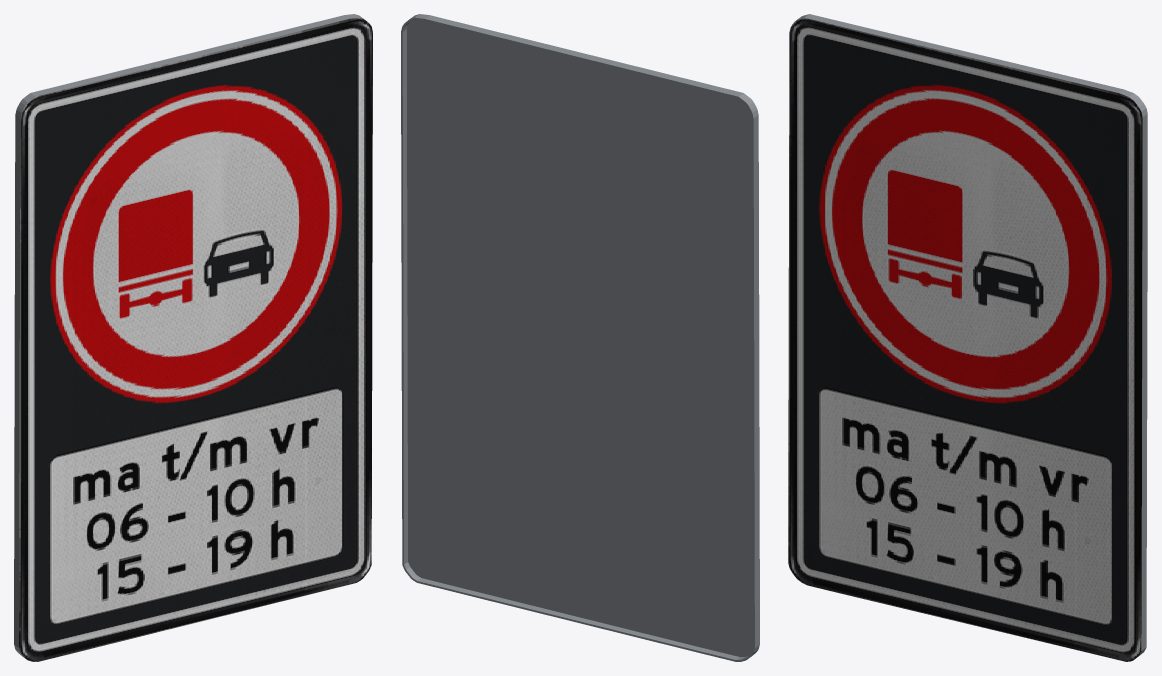
3 views of the same model, side by side, from view 1: azimuth 30°, elevation 25°; view 2: azimuth 150°, elevation 25°; view 3: azimuth 330°, elevation 25° (orthographic).
Parts seen in each view (by area): view 1: cat_d97f4c03688b99bf; view 2: cat_d97f4c03688b99bf; view 3: cat_d97f4c03688b99bf.
Boxes of the visible parts, left/top/right/bottom form: cat_d97f4c03688b99bf: left=14, top=14, right=372, bottom=661; cat_d97f4c03688b99bf: left=401, top=14, right=759, bottom=661; cat_d97f4c03688b99bf: left=788, top=14, right=1147, bottom=661.
Bounding box in the file's own units: 0.6 × 0.015 × 0.919.
Materials: 2 (1 with a texture image).
